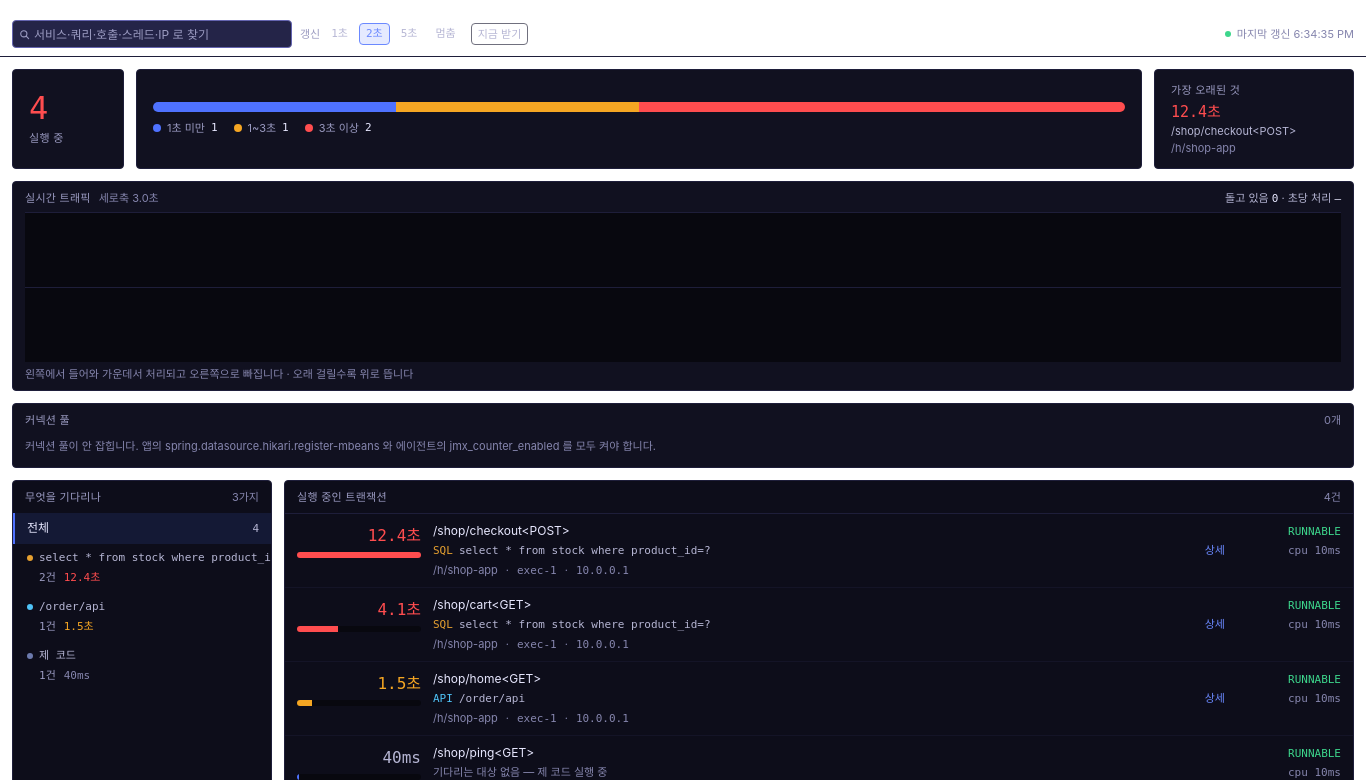
Test: ActiveTab — 떴다 사라졌다 하지 않게 › 빈 팩이 온 서버의 행을 지우지 않고 «지난 값» 으로 남긴다
Click the button "지금 받기" at (500, 34), box [471,23,528,45]
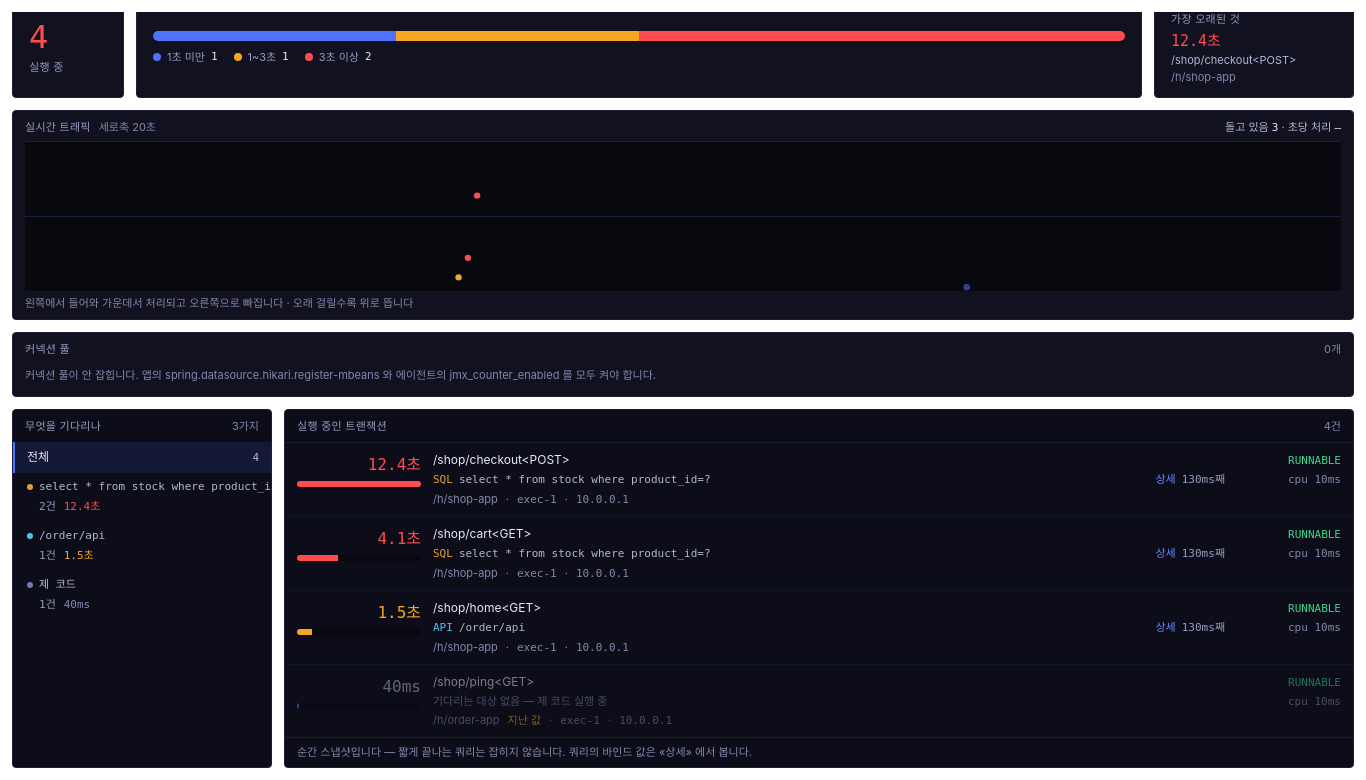
Expected: the text "/shop/ping<GET>" is shown, [433,674,534,689]
Now the text "지난 값" is shown, box [508,712,541,728]
